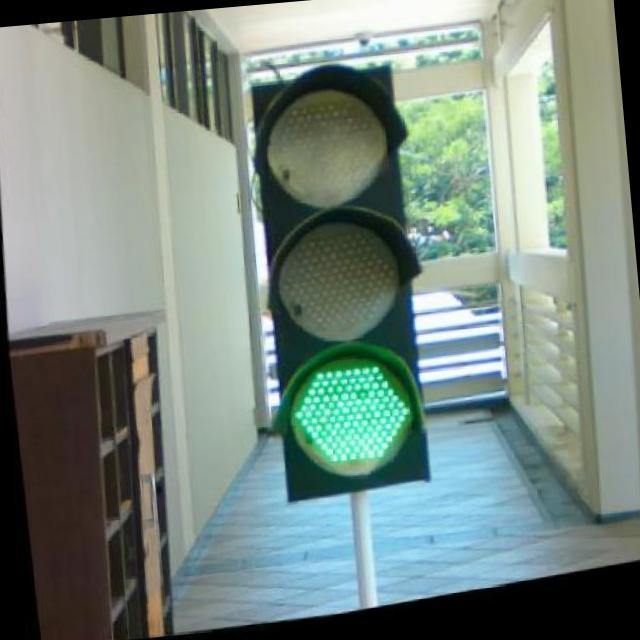green-lights: (280, 346, 430, 485)
